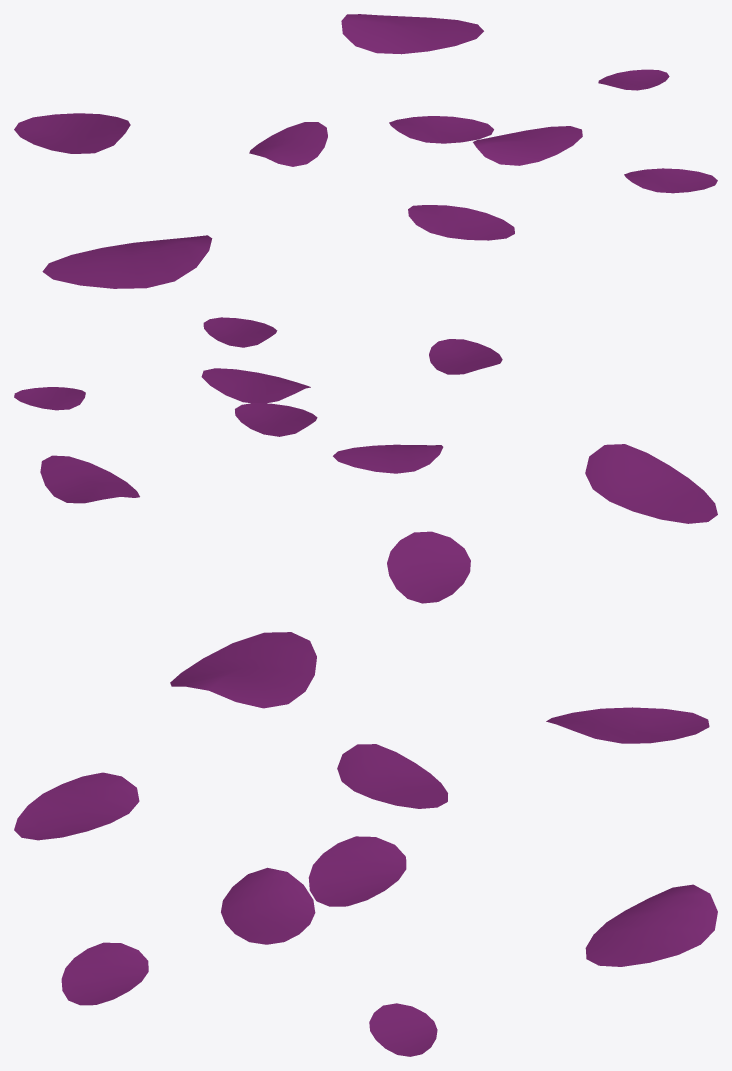
File: PetalsSoloDecals.fbx
3 views of the same model, one above another, from view 1: azimuth 30°, elevation 25°; view 2: azimuth 150°, elevation 25°; view 3: azimuth 270°, elevation 25° (orthographic). The views are drawn at different scales.
Parts seen in each view (by area): view 1: Plane.008; view 2: Plane.008; view 3: Plane.008.
Part boxes in pixels (x1,y1,x2,y2): Plane.008: [14, 14, 717, 288]; Plane.008: [14, 317, 717, 603]; Plane.008: [14, 632, 717, 1056].
Size of the model in its own units: 975 by 53.09 by 677.
